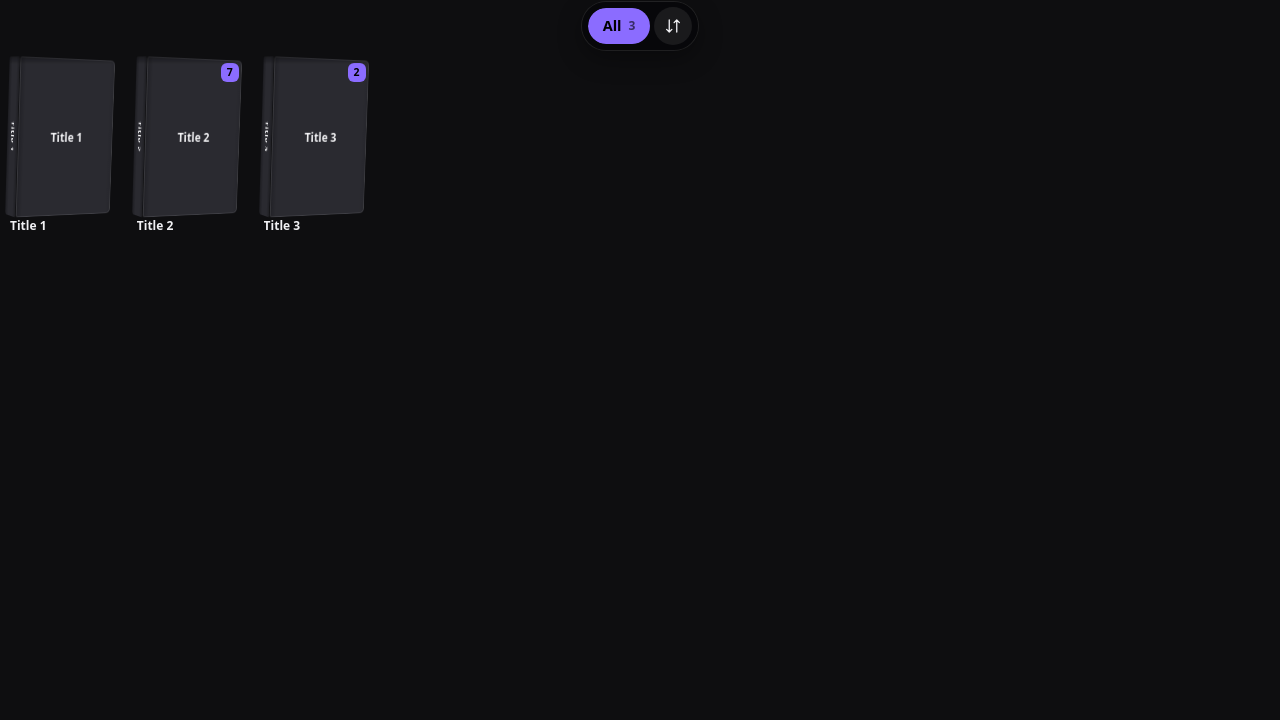
Test: sorting › says when the server is too old to sort by dates, and keeps title order
The image size is (1280, 720).
Click the button named "Sort library". click: (673, 26)
box: [654,7,692,45]
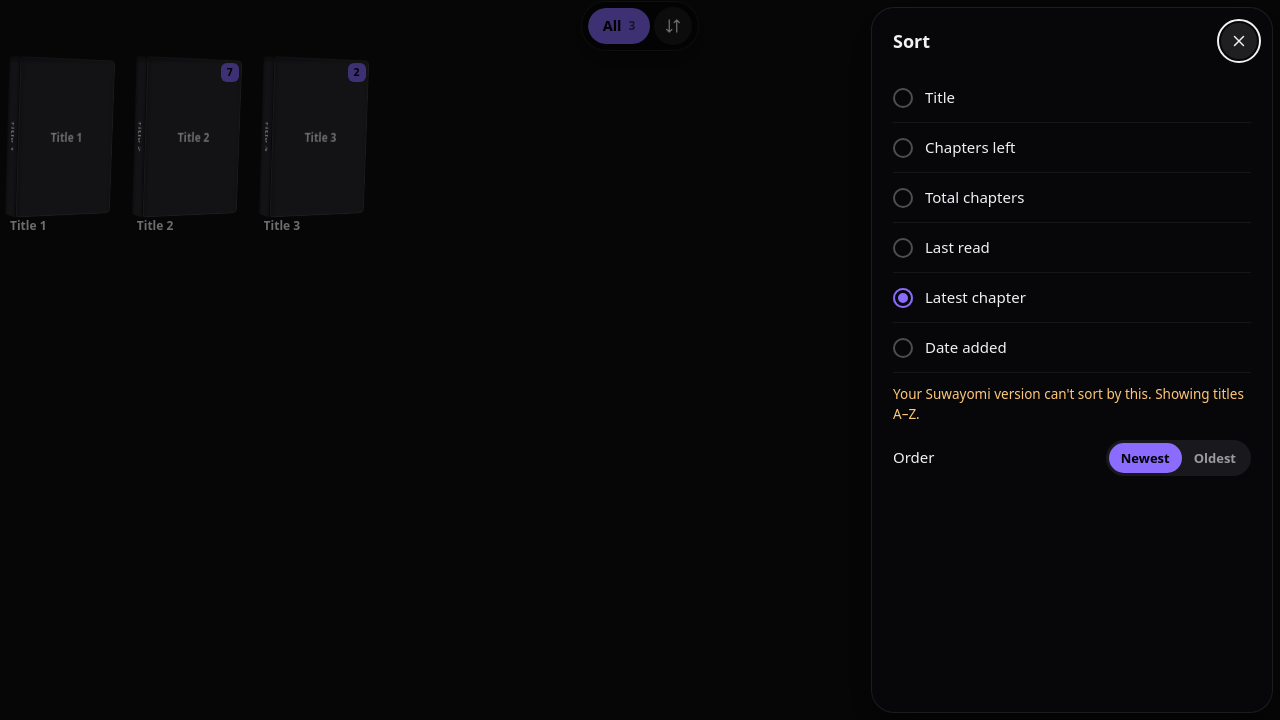
Now the text "Your Suwayomi version can't sort by this. Showing titles A–Z." is shown, box [893,385,1251,424]
